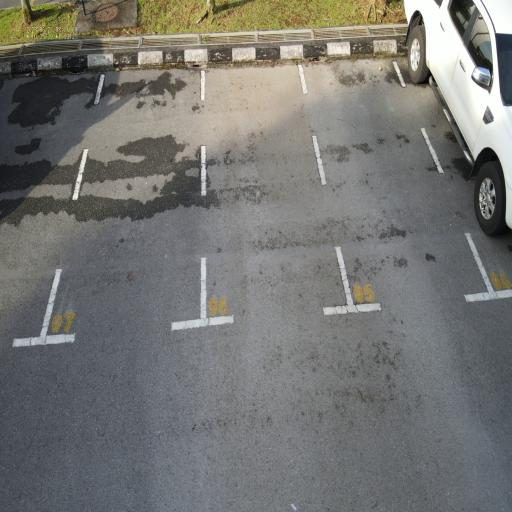Empty: (36, 60, 214, 352), (194, 56, 366, 330)
